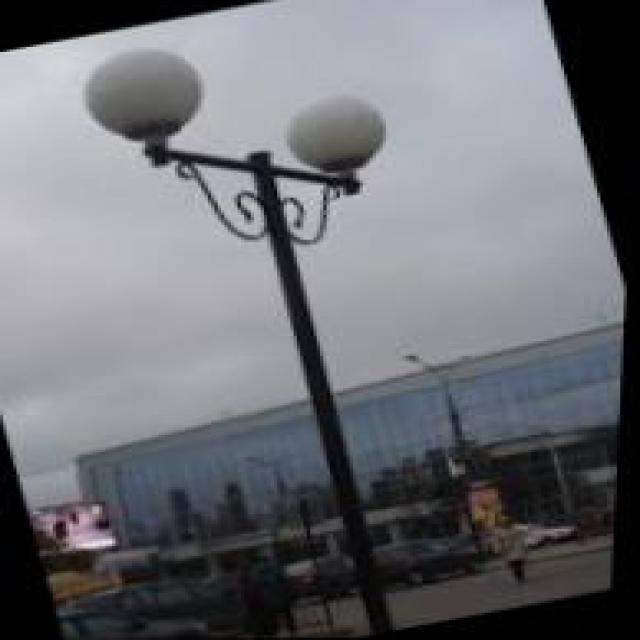pole: (269, 296, 407, 637)
